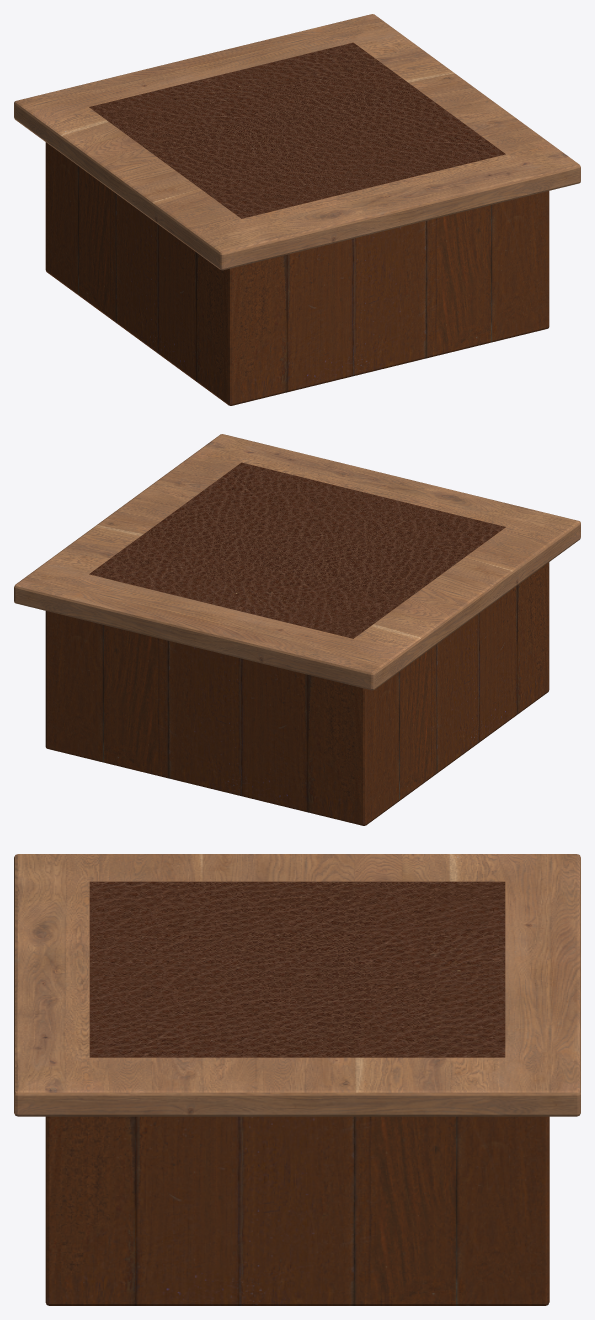
Rendered from coffee_table_square.glb.
3 renders of one model, top to bottom at view 1: azimuth 30°, elevation 25°; view 2: azimuth 150°, elevation 25°; view 3: azimuth 270°, elevation 25°, orthographic. The views are drawn at different scales.
Visible parts, largest first — view 1: CoffeeTable_Square; view 2: CoffeeTable_Square; view 3: CoffeeTable_Square.
Part boxes in pixels (x1,y1,x2,y2): CoffeeTable_Square: (14, 14, 580, 405); CoffeeTable_Square: (14, 434, 580, 825); CoffeeTable_Square: (14, 854, 580, 1305).
Size of the model in its own units: 1.08 by 0.486 by 1.08.
3 materials, 3 textured.
